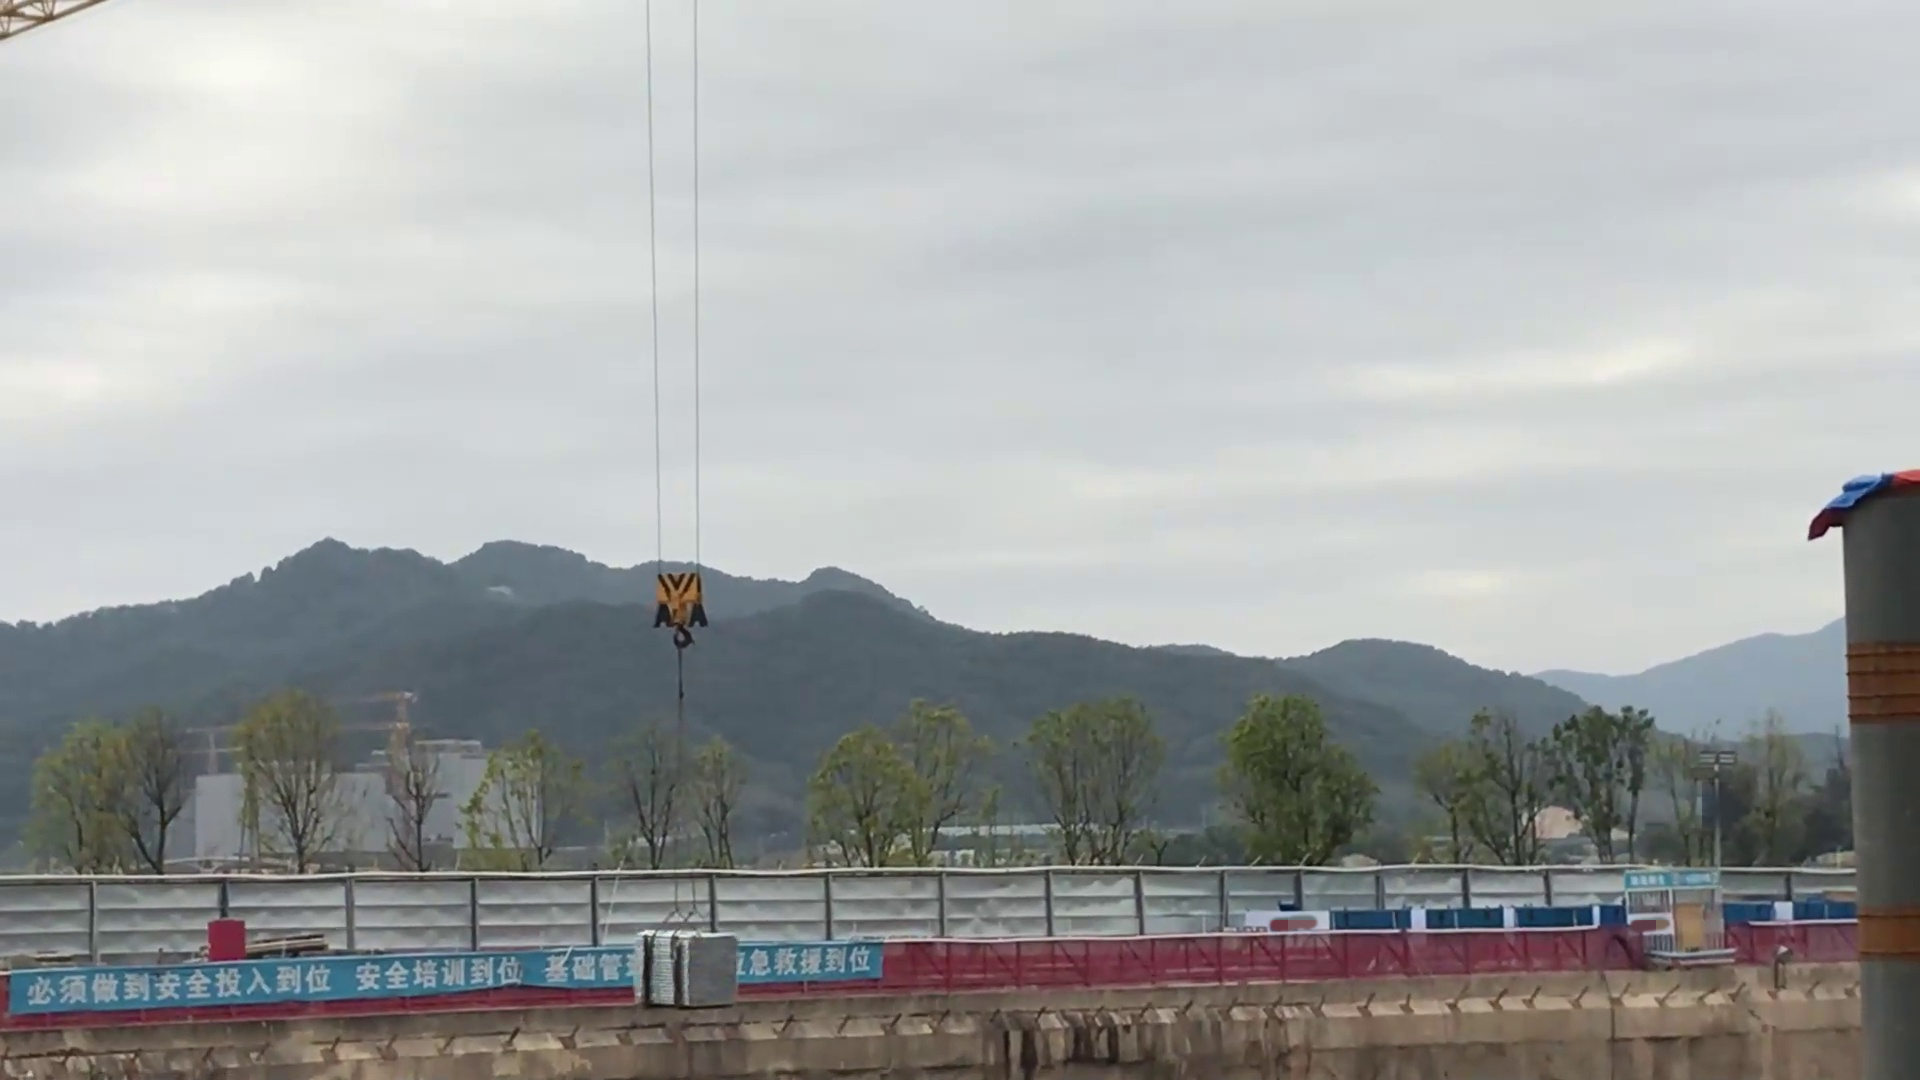fence: (5, 919, 1920, 1039)
hook: (644, 553, 711, 654)
scaffold: (625, 928, 742, 1017)
slogan: (17, 945, 876, 1015)
